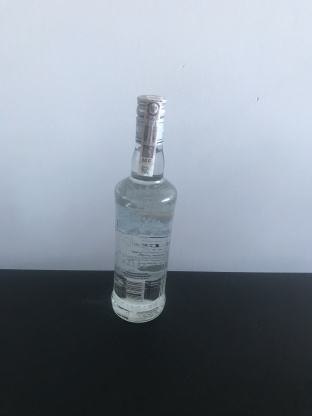nakretka: (132, 88, 169, 149)
